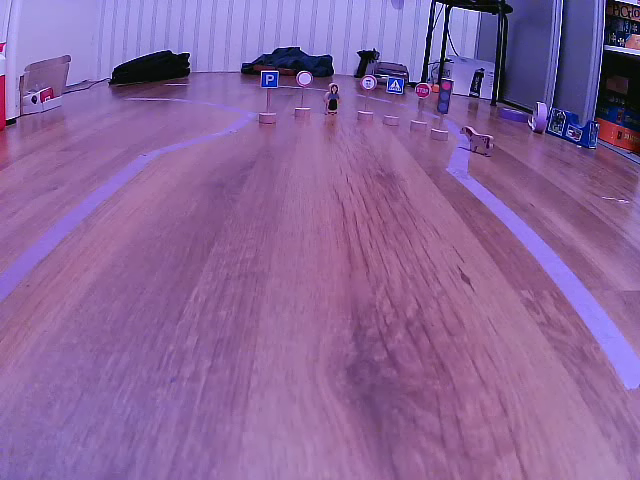fietspad: (360, 74, 377, 93)
mens: (323, 83, 341, 114)
paard: (459, 124, 494, 157)
parkeerbord: (261, 71, 280, 88)
roodlicht: (439, 77, 452, 115)
stopbord: (415, 82, 431, 98)
wegdicht: (295, 69, 314, 89)
zebrapad: (387, 75, 405, 96)
